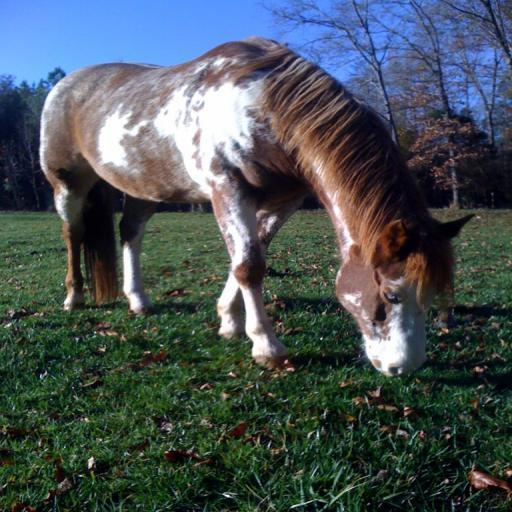horse: (38, 35, 478, 381)
